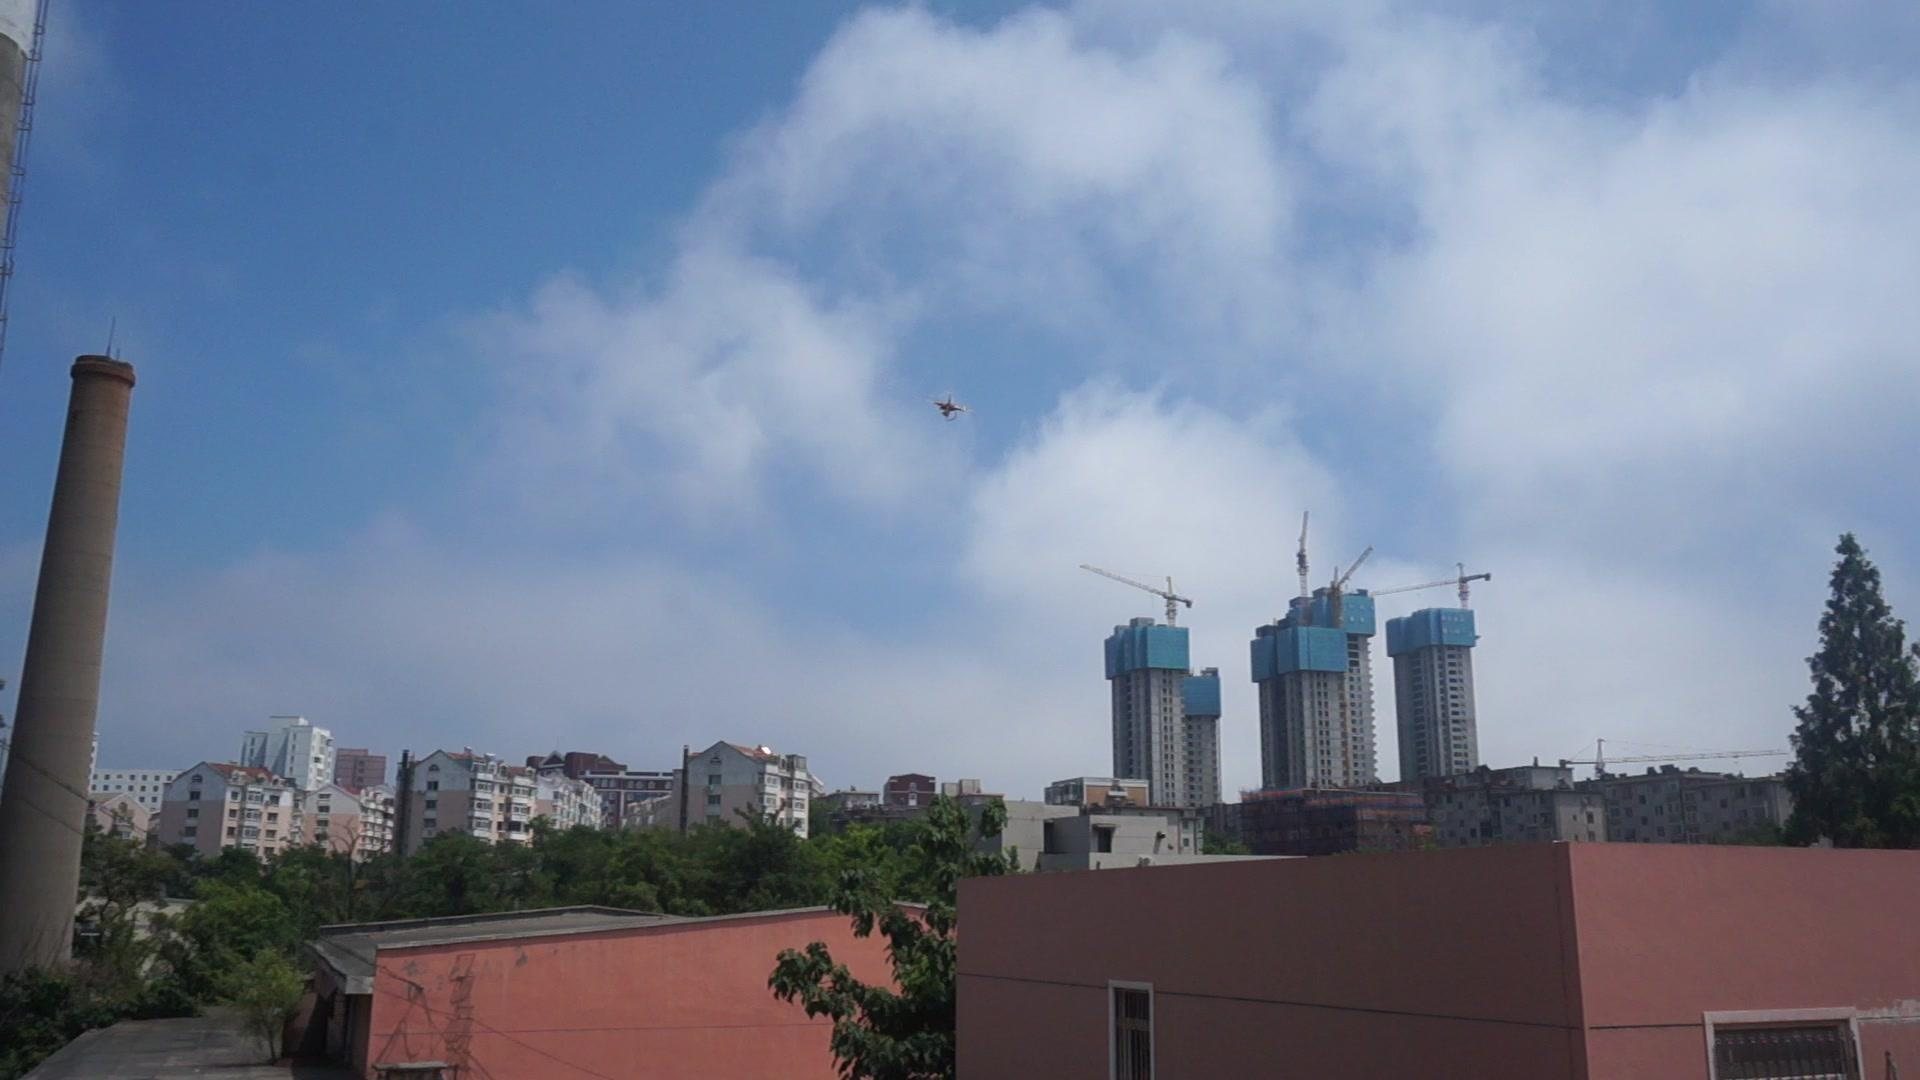UAV: (926, 392, 978, 422)
